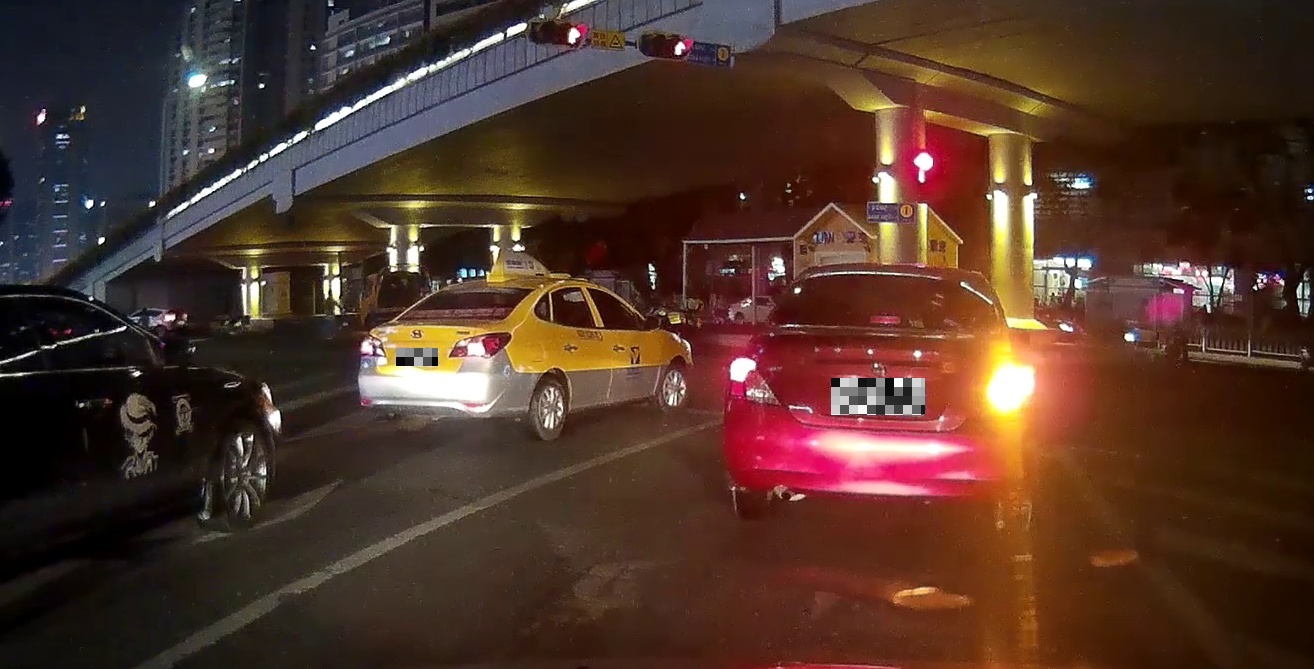L_light: (728, 357, 781, 406), (359, 334, 386, 358)
R_light: (974, 366, 1024, 412), (448, 331, 512, 358)
T_light: (868, 314, 902, 326), (471, 288, 491, 292)
night-no: (357, 274, 545, 433)
night-right: (723, 262, 1029, 526)
plate_1: (396, 348, 438, 366)
plate_2: (831, 378, 925, 415)
